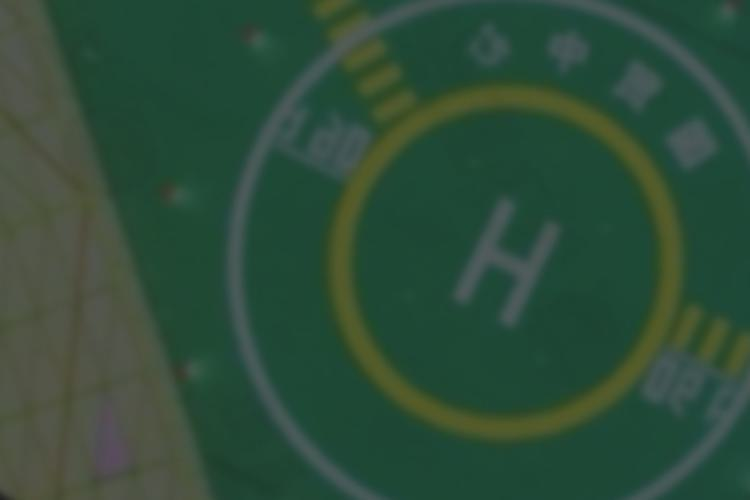Apron: (321, 82, 685, 444)
